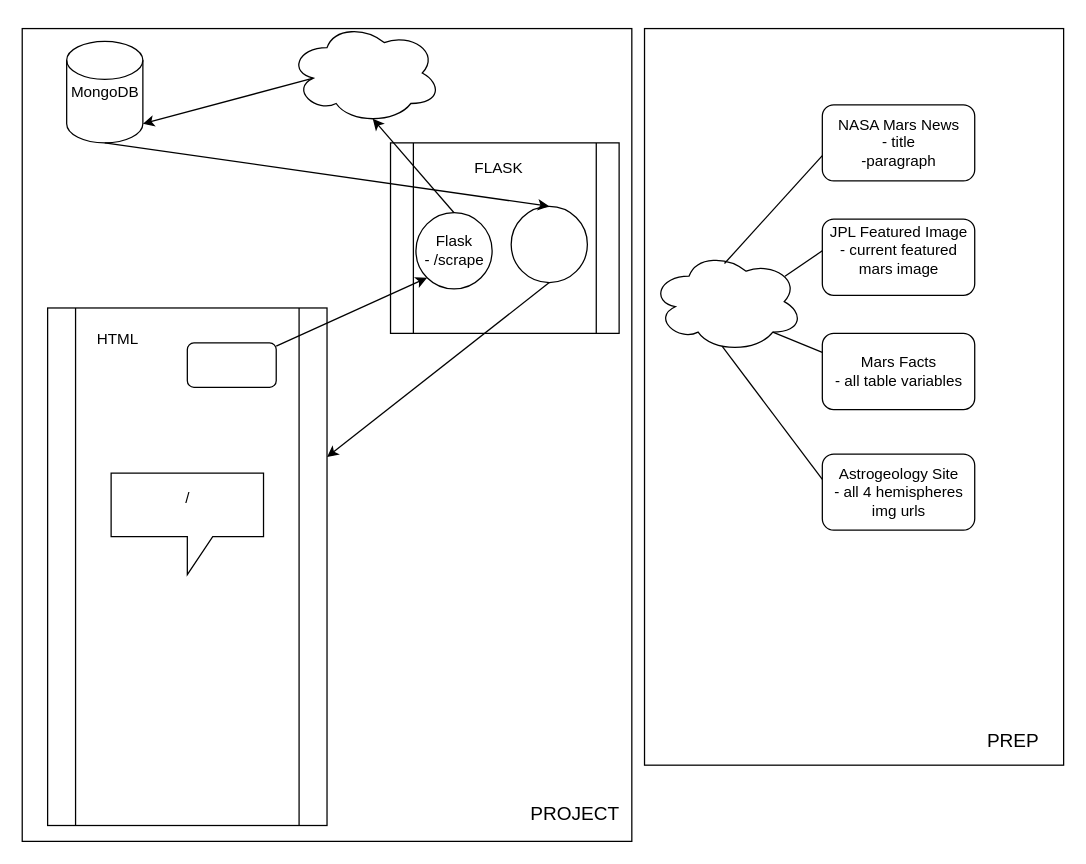
This 1086x864 diagram has some shape labels left out. Each missing label, with the centre of its shape:
"Flask - /" goes at point 548,244.
"Scrape Button" goes at point 231,364.
"Scraping Notebook" goes at point 726,301.
"Scraping Py" goes at point 364,72.
